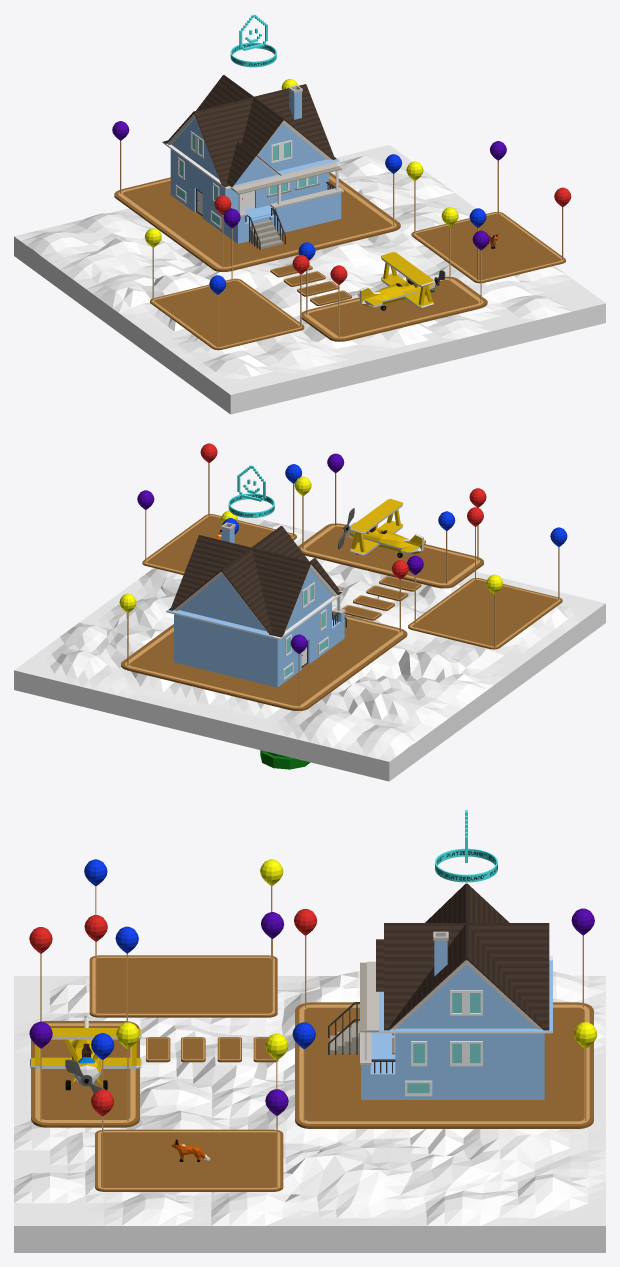
3 renders of one model, top to bottom at view 1: azimuth 30°, elevation 25°; view 2: azimuth 150°, elevation 25°; view 3: azimuth 270°, elevation 25°, orthographic. The views are drawn at different scales.
Parts seen in each view (by area): view 1: Cube.013, Cube.1594, VEHICLES_AIRPLANE, TYPE_PREMIUM; view 2: Cube.013, Cube.1594, VEHICLES_AIRPLANE, TYPE_PREMIUM, UNDERGROUND_PIPES; view 3: Cube.013, Cube.1594, VEHICLES_AIRPLANE, TYPE_PREMIUM.
Boxes of the visible parts, x1,y1,x2,y2 form: Cube.013: (14, 79, 605, 414); Cube.1594: (162, 75, 343, 250); VEHICLES_AIRPLANE: (357, 252, 445, 310); TYPE_PREMIUM: (230, 14, 276, 67); Cube.013: (14, 443, 605, 781); Cube.1594: (166, 522, 346, 687); VEHICLES_AIRPLANE: (338, 498, 425, 557); TYPE_PREMIUM: (228, 465, 274, 517); UNDERGROUND_PIPES: (260, 750, 310, 769); Cube.013: (14, 859, 605, 1252); Cube.1594: (328, 883, 552, 1099); VEHICLES_AIRPLANE: (30, 1015, 141, 1093); TYPE_PREMIUM: (435, 810, 497, 882).
Size of the model in its own units: 4000 by 3027 by 4000.
36 materials, 2 textured.
